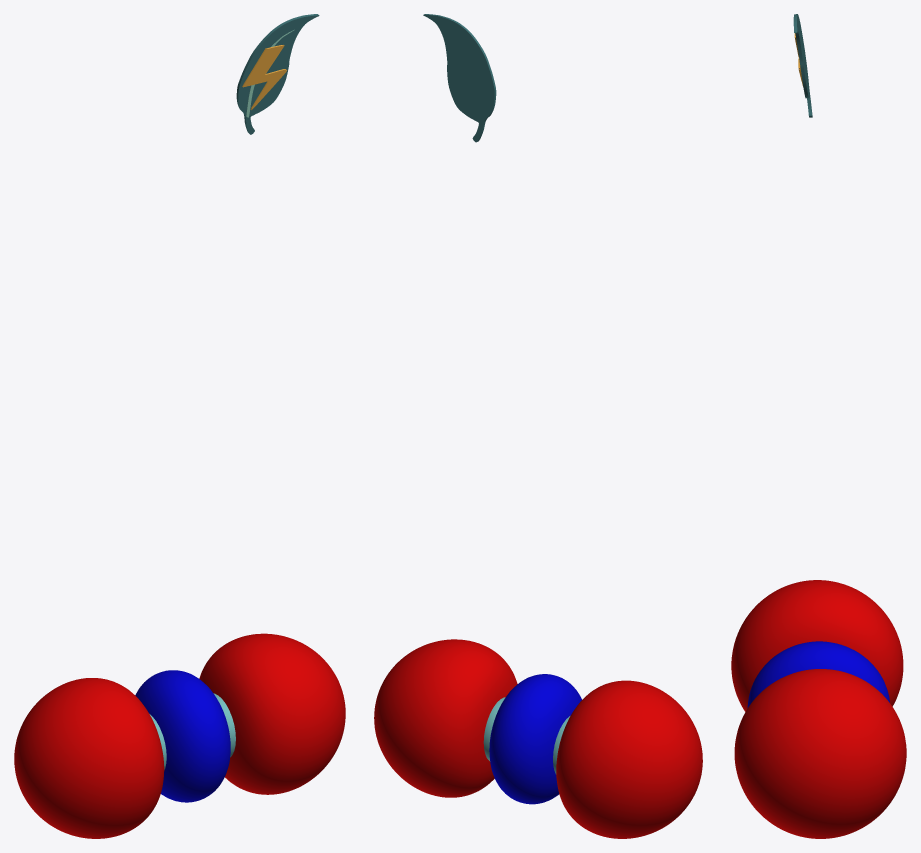
The model's file is c2h2_sim_en.glb.
3 views of the same model, side by side, from view 1: azimuth 30°, elevation 25°; view 2: azimuth 150°, elevation 25°; view 3: azimuth 270°, elevation 25° (orthographic). The views are drawn at different scales.
Visible parts, largest first — view 1: c2h2_sim_en, path182, path186; view 2: c2h2_sim_en, path182; view 3: c2h2_sim_en, path182.
Part boxes in pixels (x1,y1,x2,y2): c2h2_sim_en: (14, 633, 345, 838); path182: (236, 14, 319, 134); path186: (242, 45, 286, 109); c2h2_sim_en: (374, 639, 702, 838); path182: (423, 14, 496, 142); c2h2_sim_en: (731, 580, 906, 838); path182: (793, 14, 812, 117).
Bounding box in the file's own units: 2.39 × 5.68 × 1.09.
